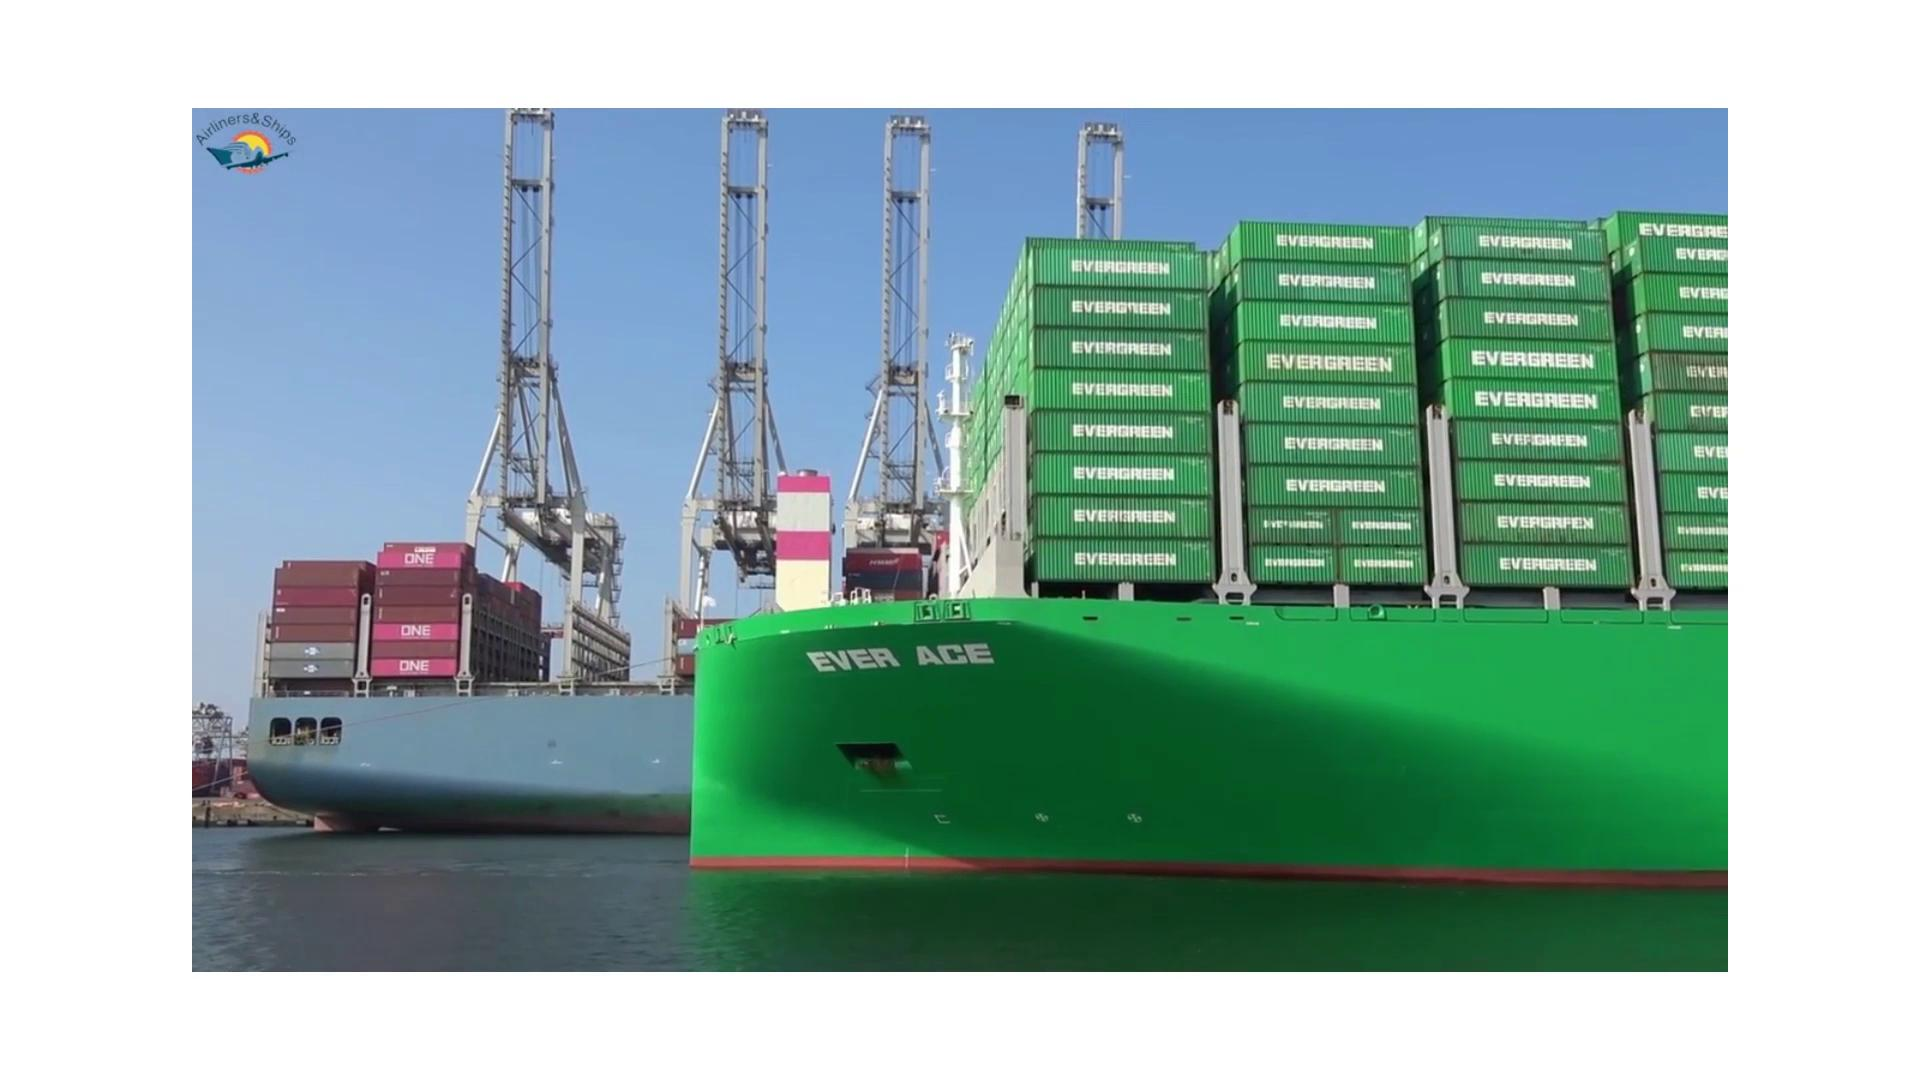OCR: (791, 622, 1011, 686)
